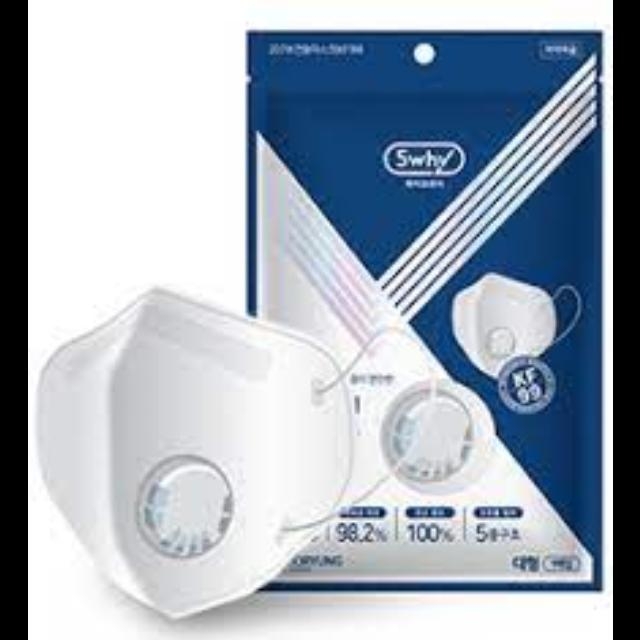masks: (28, 283, 432, 639)
